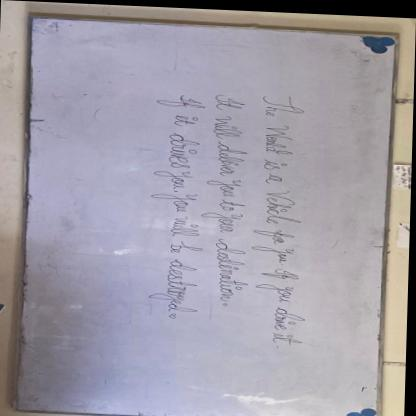Handwritten text: (249, 91, 315, 343), (142, 79, 208, 313), (199, 92, 254, 302)
Whiteboard: (13, 12, 398, 416)
